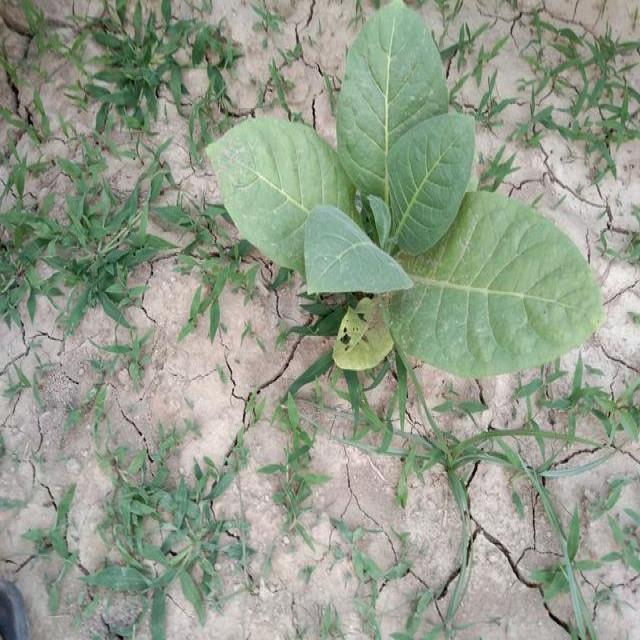crop: (200, 3, 606, 384)
